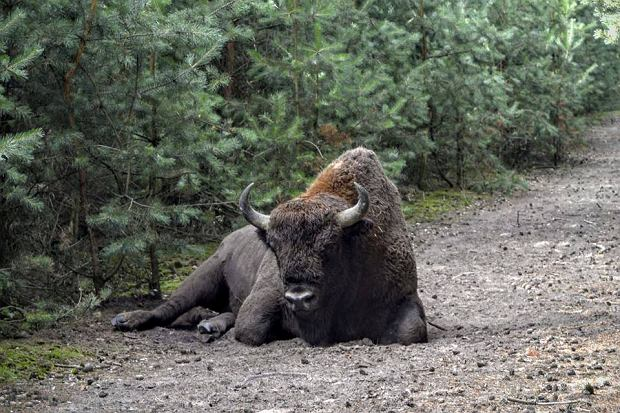zubr: (104, 129, 469, 376)
